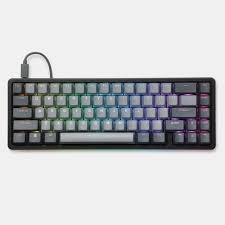keyboard: (0, 73, 219, 154)
